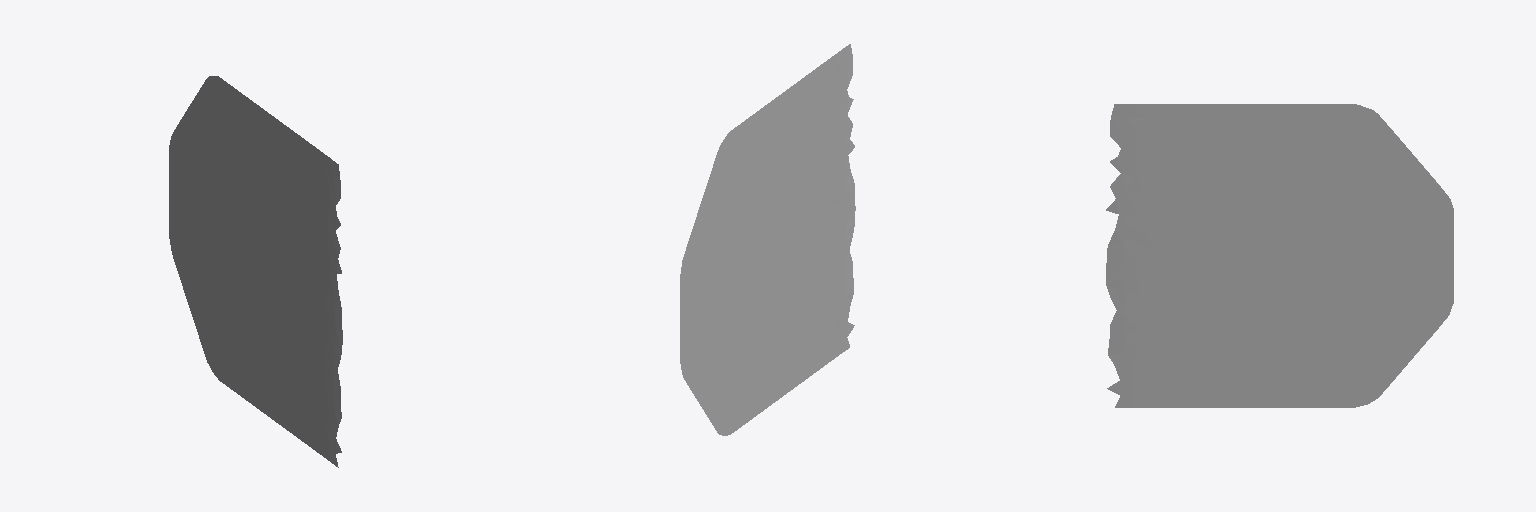
The model's file is x_maximas.obj.
3 renders of one model, left to right at view 1: azimuth 30°, elevation 25°; view 2: azimuth 150°, elevation 25°; view 3: azimuth 270°, elevation 25°, orthographic.
Bounding box in the file's own units: 0.096 × 32 × 33.28.